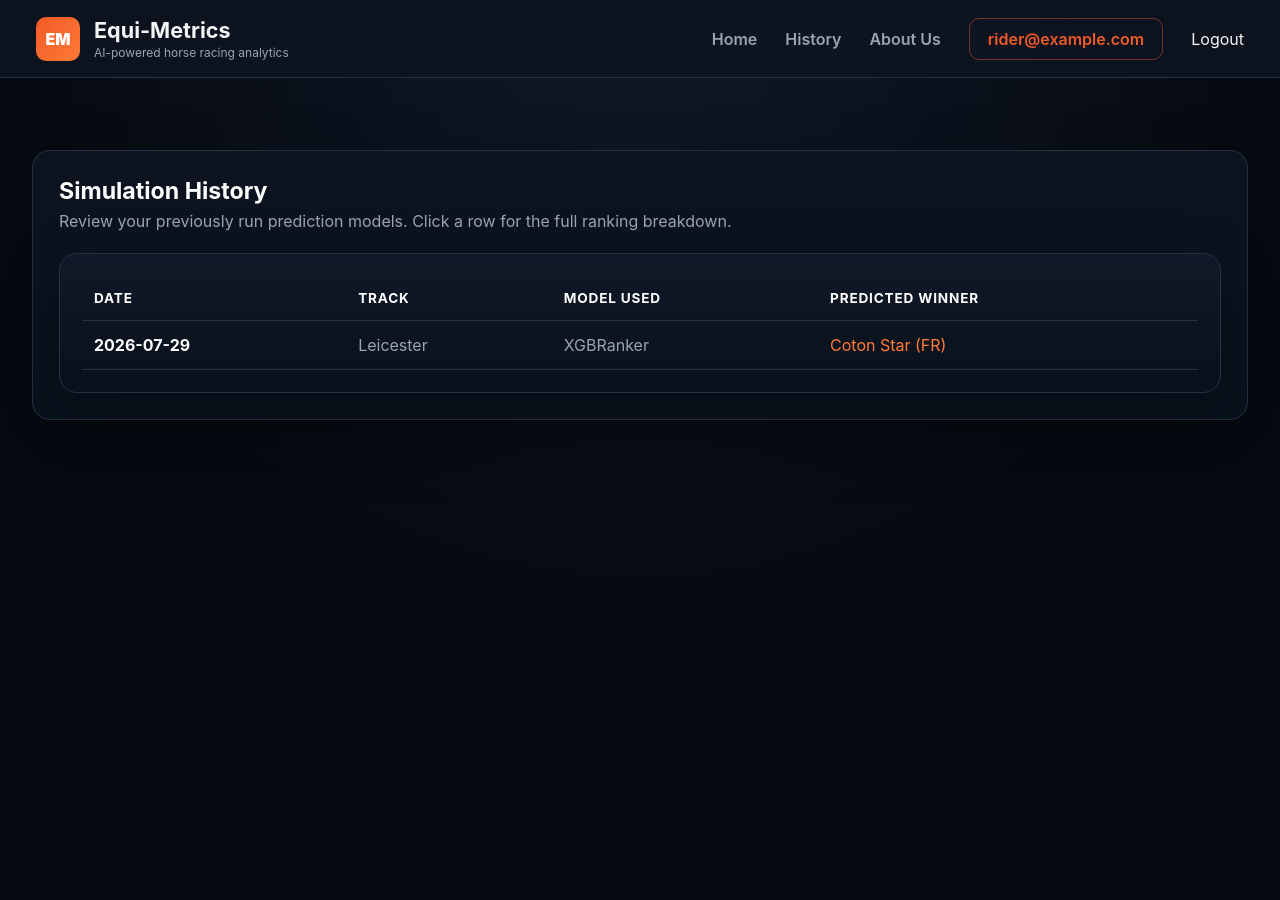
Test: History › clicking an already-open row collapses it again without re-fetching
Click the text "Leicester" at (449, 345), box [346,320,552,370]
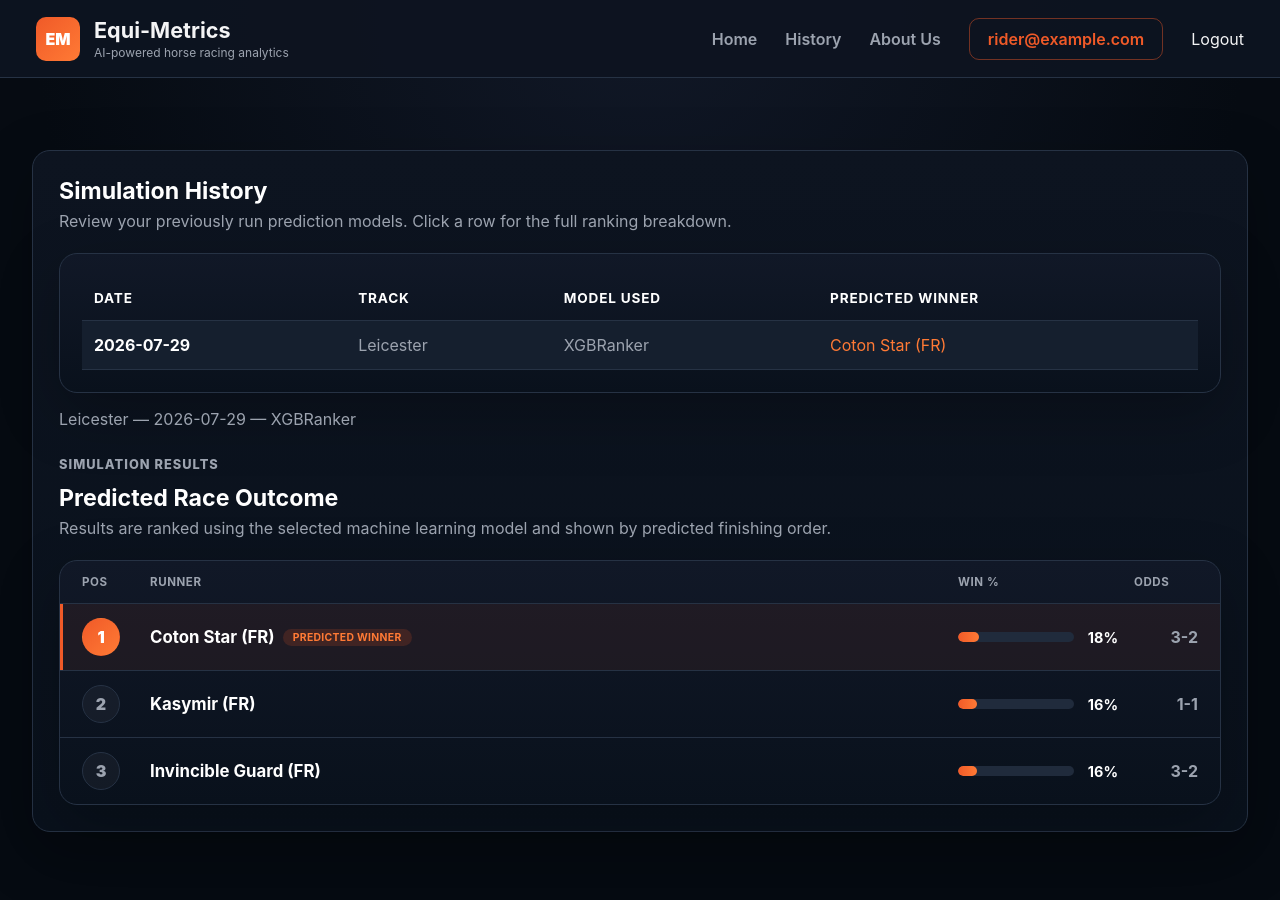
Result: the heading "Kasymir (FR)" is shown at [150,694,256,714]
Click the text "Leicester" at (449, 345), box [346,320,552,370]
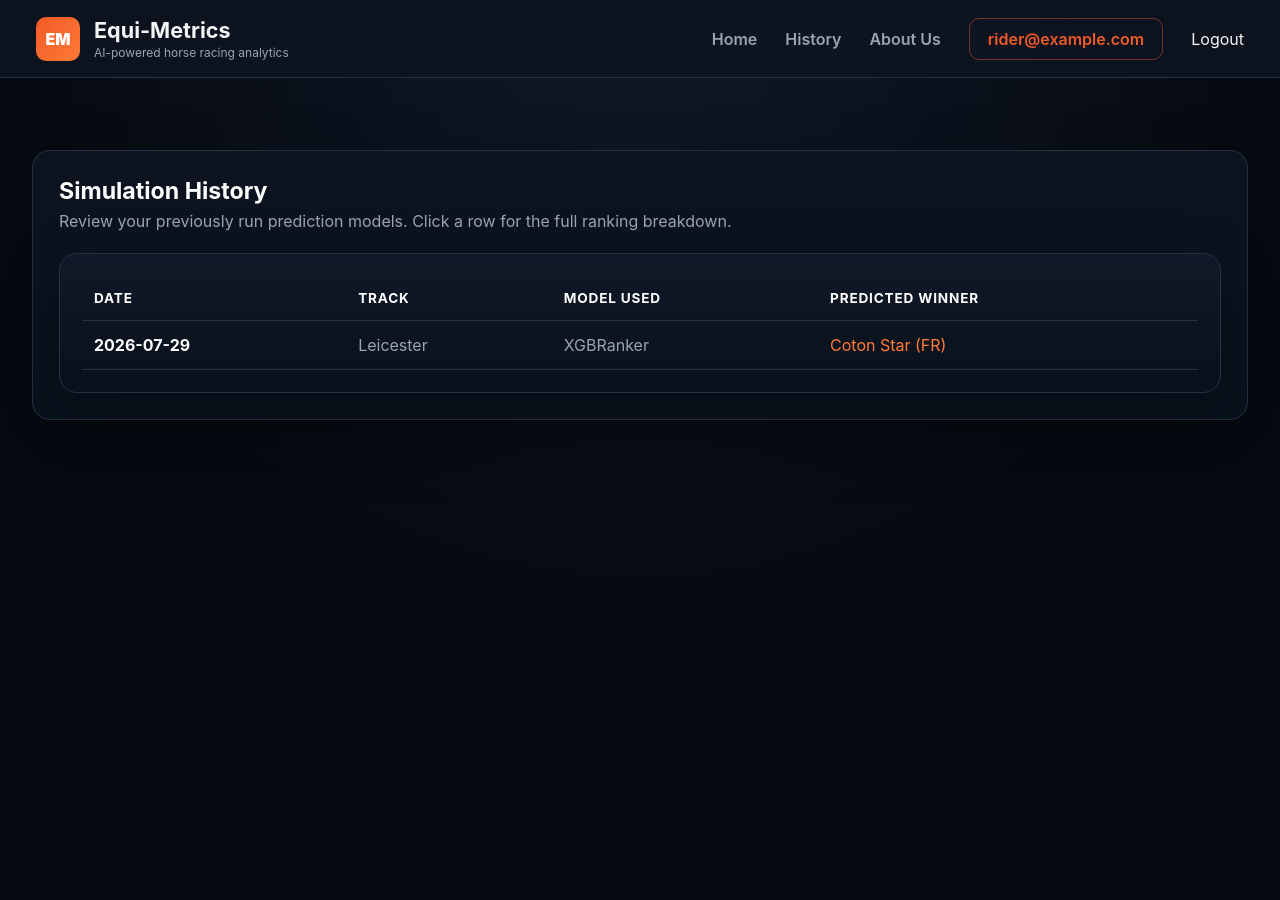
Result: the heading "Kasymir (FR)" is gone
